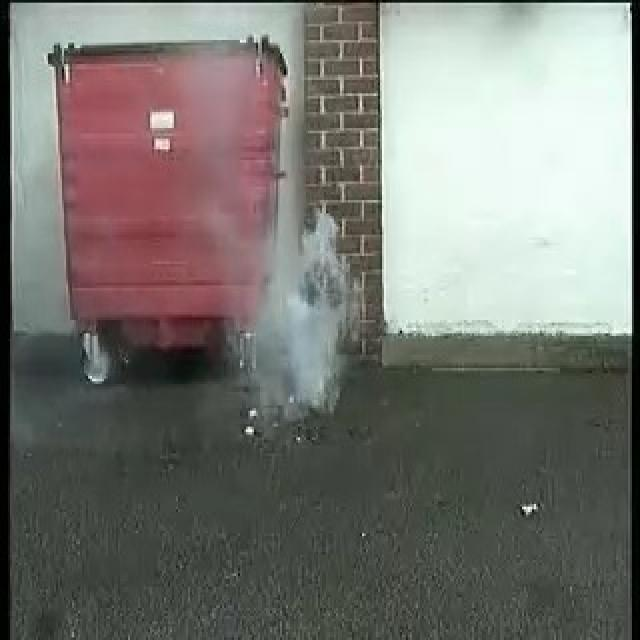smoke: (244, 215, 346, 412)
